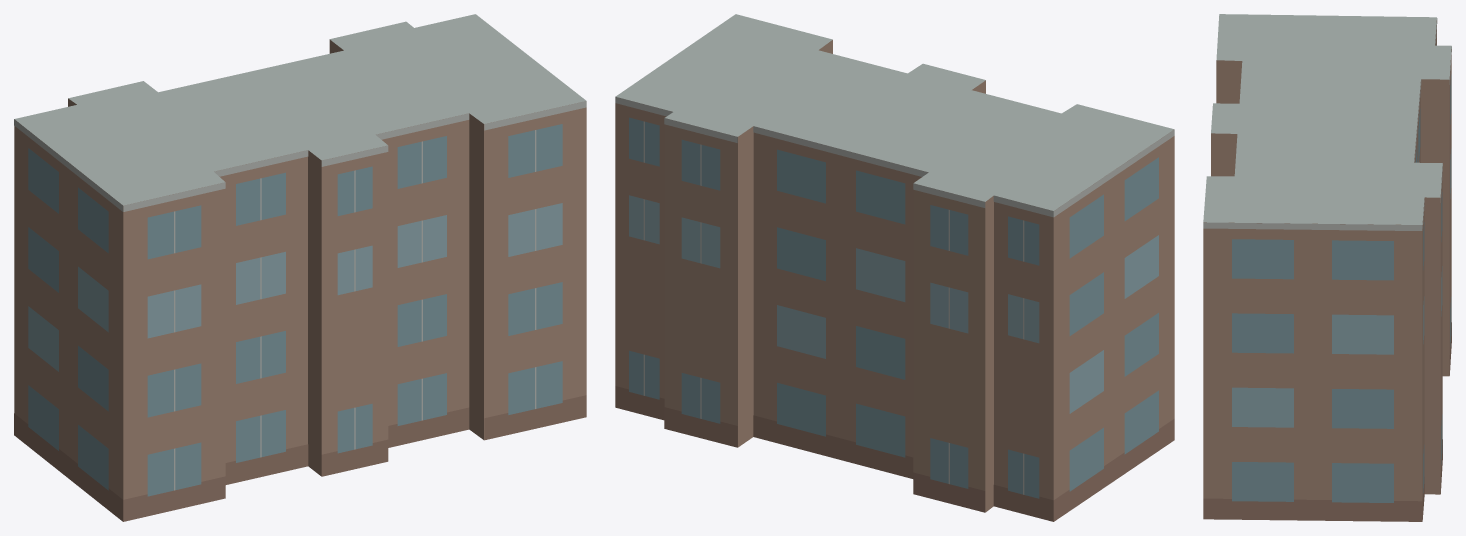
The model's file is survey-upis-32838822.glb.
3 views of the same model, side by side, from view 1: azimuth 30°, elevation 25°; view 2: azimuth 150°, elevation 25°; view 3: azimuth 270°, elevation 25° (orthographic). The views are drawn at different scales.
Visible parts, largest first — view 1: survey-upis-32838822.tmp; view 2: survey-upis-32838822.tmp; view 3: survey-upis-32838822.tmp.
Boxes of the visible parts, x1,y1,x2,y2 form: survey-upis-32838822.tmp: (14,14,586,521); survey-upis-32838822.tmp: (615,14,1174,521); survey-upis-32838822.tmp: (1203,14,1451,521).
Size of the model in its own units: 18.09 by 11.86 by 9.01.
